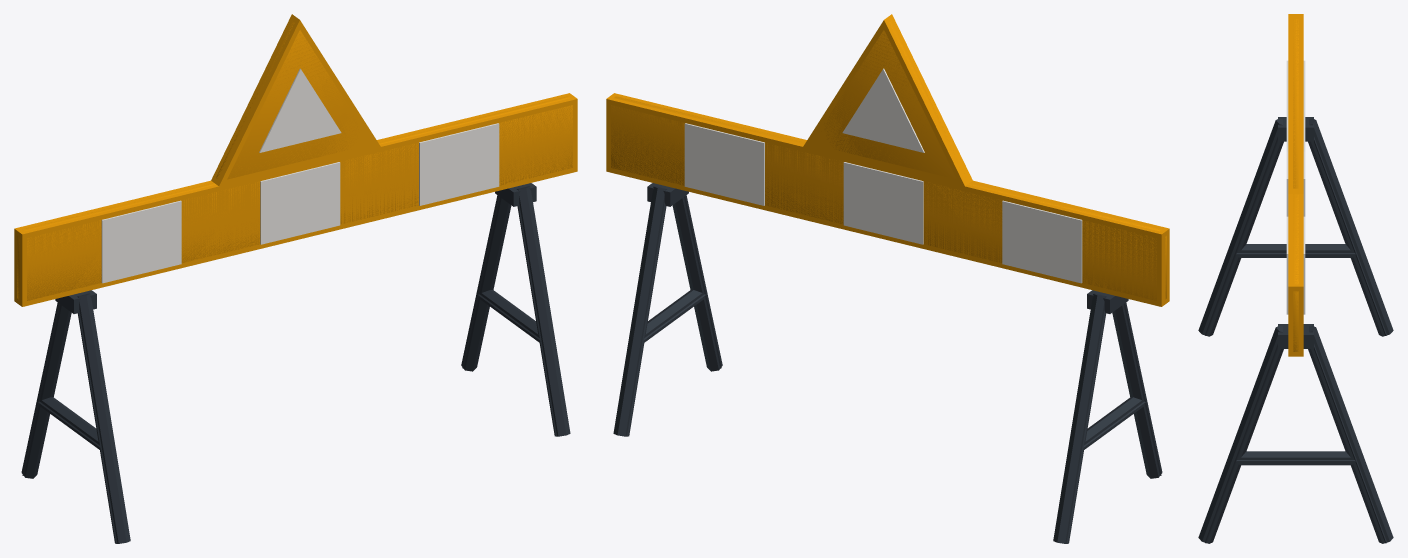
The model's file is PRP_BLOCKED_BARRIER_A_v001.glb.
The picture shows the model from 3 angles, left to right: view 1: azimuth 30°, elevation 25°; view 2: azimuth 150°, elevation 25°; view 3: azimuth 270°, elevation 25°; orthographic projection. The views are drawn at different scales.
Visible parts, largest first — view 1: PRP_BLOCKED_BARRIER_A_BARRIER, PRP_BLOCKED_BARRIER_A_BARRIER_LOW; view 2: PRP_BLOCKED_BARRIER_A_BARRIER, PRP_BLOCKED_BARRIER_A_BARRIER_LOW; view 3: PRP_BLOCKED_BARRIER_A_BARRIER, PRP_BLOCKED_BARRIER_A_BARRIER_LOW.
Boxes of the visible parts, x1,y1,x2,y2 form: PRP_BLOCKED_BARRIER_A_BARRIER: (17, 21, 572, 543); PRP_BLOCKED_BARRIER_A_BARRIER_LOW: (14, 14, 577, 543); PRP_BLOCKED_BARRIER_A_BARRIER: (611, 21, 1166, 543); PRP_BLOCKED_BARRIER_A_BARRIER_LOW: (606, 14, 1169, 543); PRP_BLOCKED_BARRIER_A_BARRIER: (1198, 19, 1393, 543); PRP_BLOCKED_BARRIER_A_BARRIER_LOW: (1205, 14, 1386, 543).
Size of the model in its own units: 2.4 by 1.82 by 0.7569.
